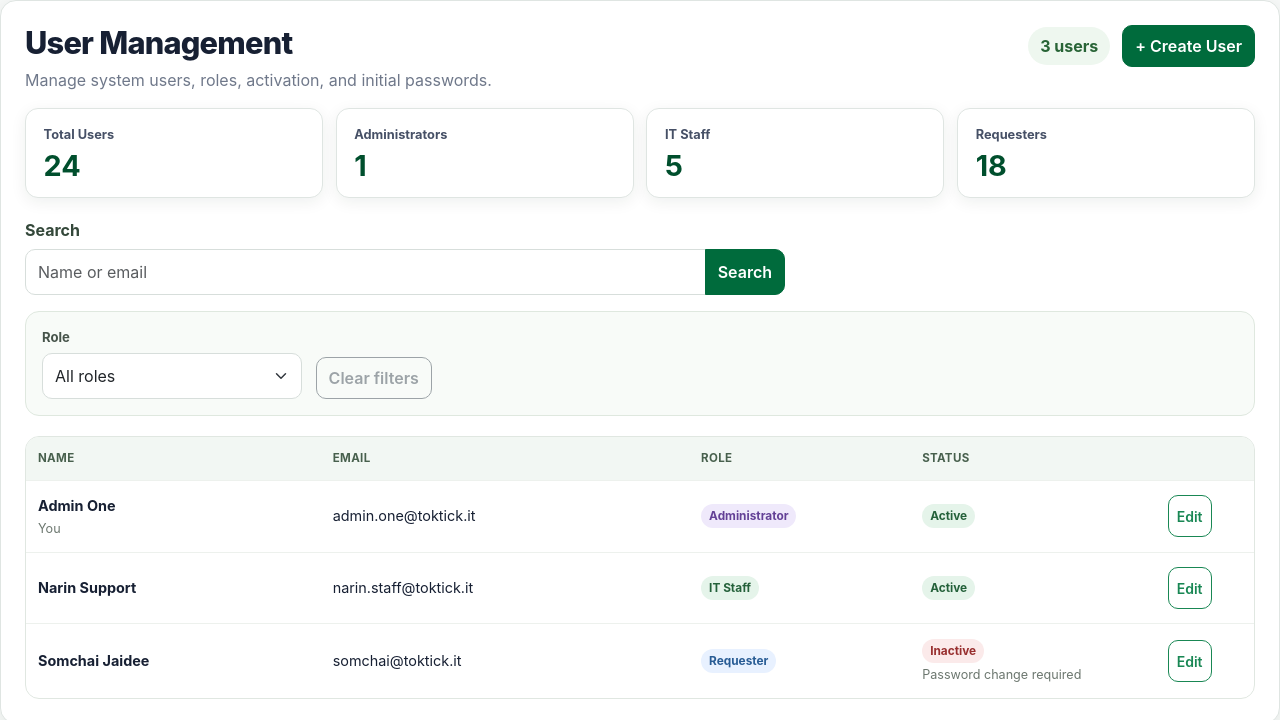
Scenario: Lab 3 Administrator User Management › UI-ADM-03: Create User has one role control, activation state, and initial password
Click the button "+ Create User".
click(1189, 46)  # box [1122,25,1255,67]
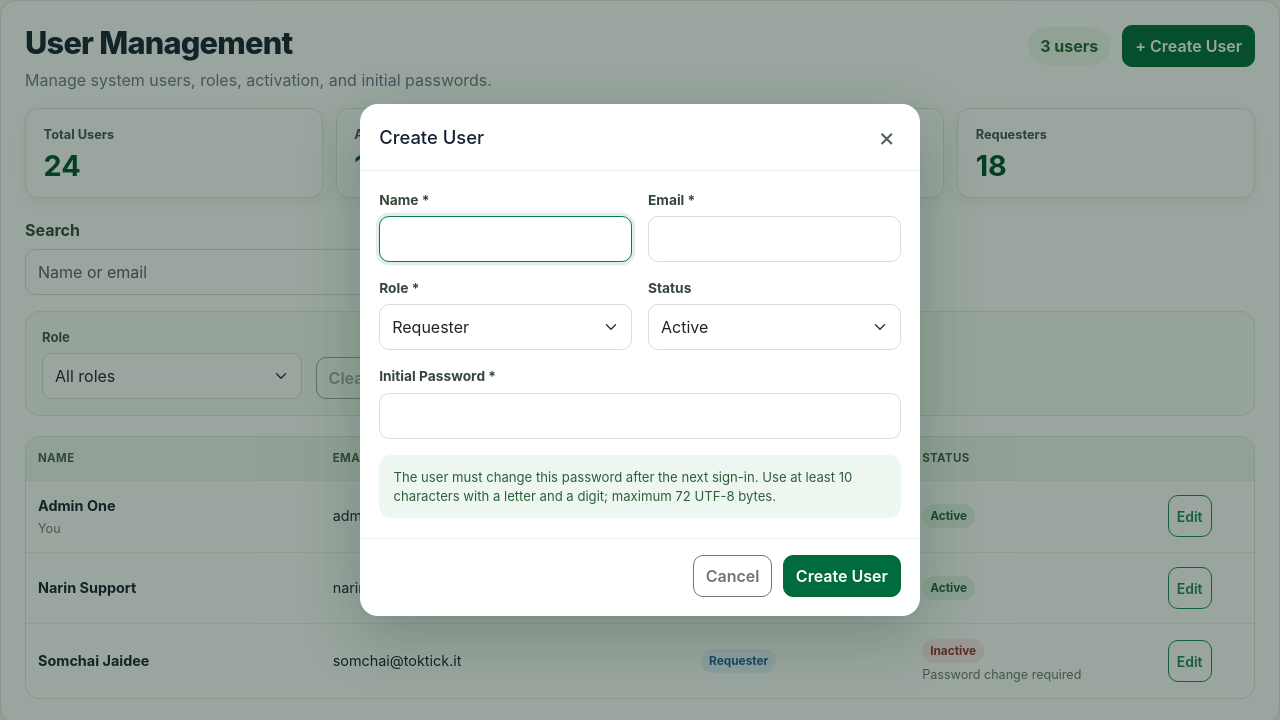
expect the field labelled "Name *" is shown: met, box [379,216,632,262]
expect the field labelled "Email *" is shown: met, box [648,216,901,262]
expect the dropdown labelled "Role *" shows "Requester": met, box [379,304,632,350]
